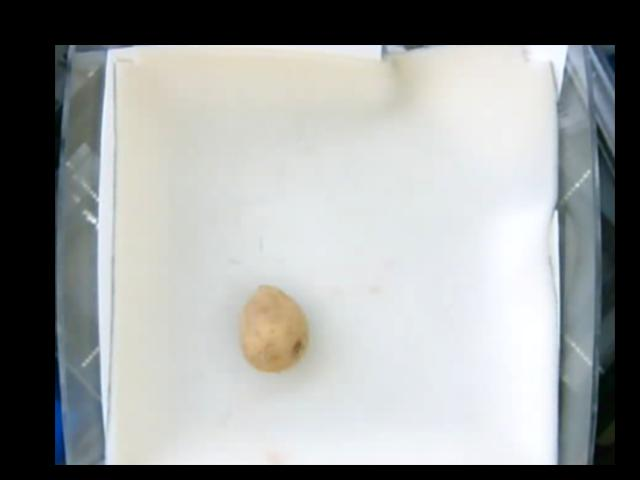Potato: (237, 286, 308, 373)
